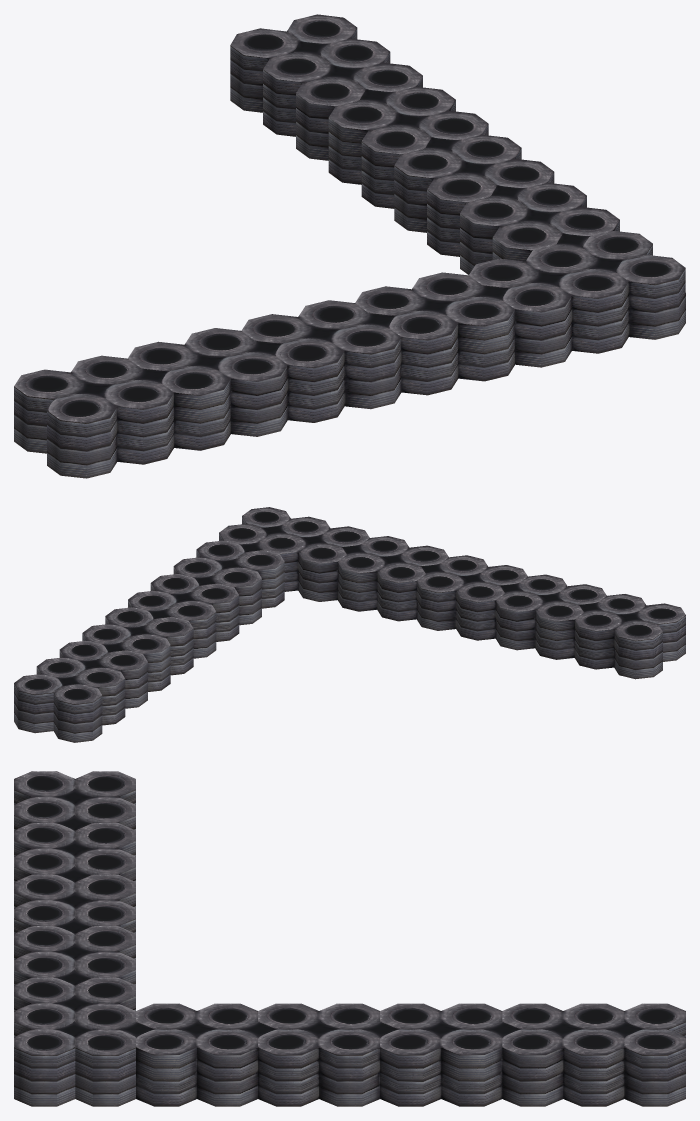
Rendered from Tyre_Wall_Low_Angle_B.fbx.
The picture shows the model from 3 angles, top to bottom: view 1: azimuth 30°, elevation 25°; view 2: azimuth 150°, elevation 25°; view 3: azimuth 270°, elevation 25°; orthographic projection. The views are drawn at different scales.
Visible parts, largest first — view 1: Tyres; view 2: Tyres; view 3: Tyres.
Part boxes in pixels (left/top/right/bottom): Tyres: left=14, top=14, right=685, bottom=478; Tyres: left=14, top=507, right=685, bottom=742; Tyres: left=14, top=771, right=685, bottom=1106.
Size of the model in its own units: 500 by 42.23 by 500.
